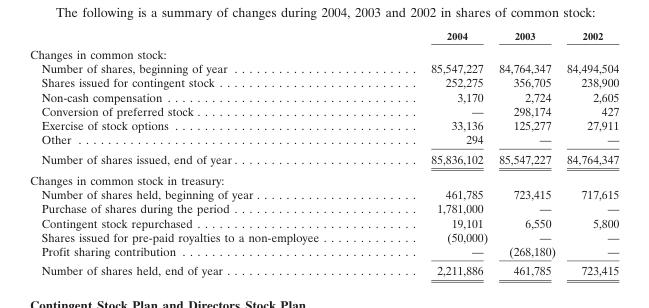table: (29, 28, 618, 277)
table column: (29, 28, 374, 277), (374, 28, 492, 277), (492, 28, 560, 277), (560, 28, 618, 277)
table column header: (29, 28, 618, 43)
table projected row header: (29, 43, 618, 60), (29, 169, 618, 186)
table row: (29, 148, 618, 169), (29, 43, 618, 60), (29, 169, 618, 186), (29, 243, 618, 260), (29, 260, 618, 277), (29, 132, 618, 148), (29, 28, 618, 43), (29, 60, 618, 75), (29, 117, 618, 132), (29, 186, 618, 201), (29, 75, 618, 89), (29, 89, 618, 103), (29, 103, 618, 117), (29, 201, 618, 215), (29, 215, 618, 229), (29, 229, 618, 243)
